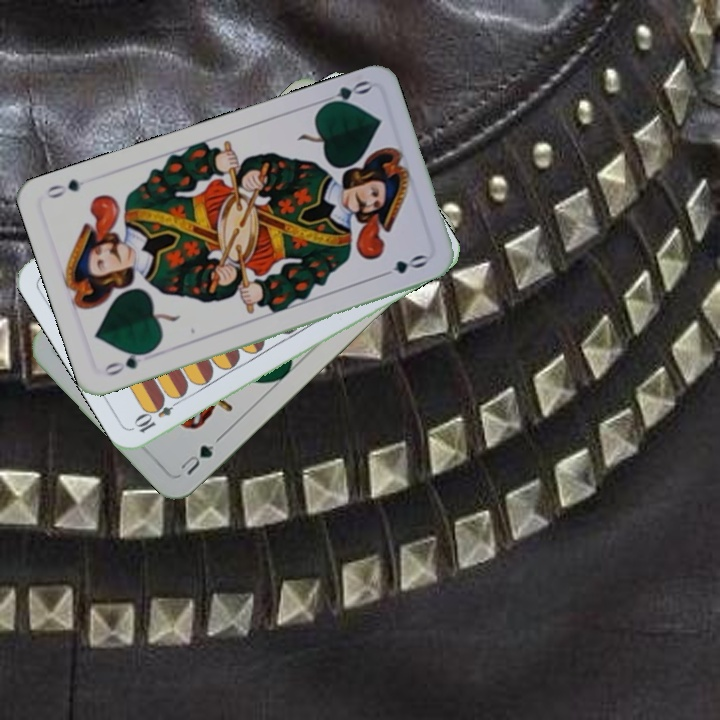E10: (131, 393, 185, 436)
GO: (315, 76, 373, 111), (99, 346, 155, 379)
GU: (176, 441, 217, 478)
